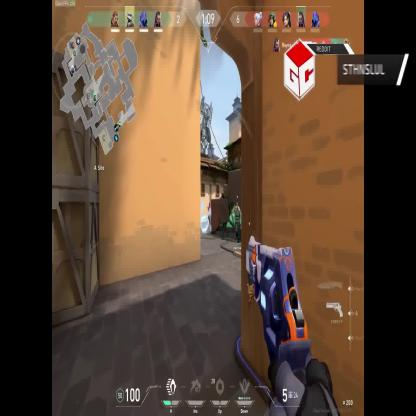enemy: (207, 202, 212, 225)
enemy_head: (209, 203, 210, 207)
